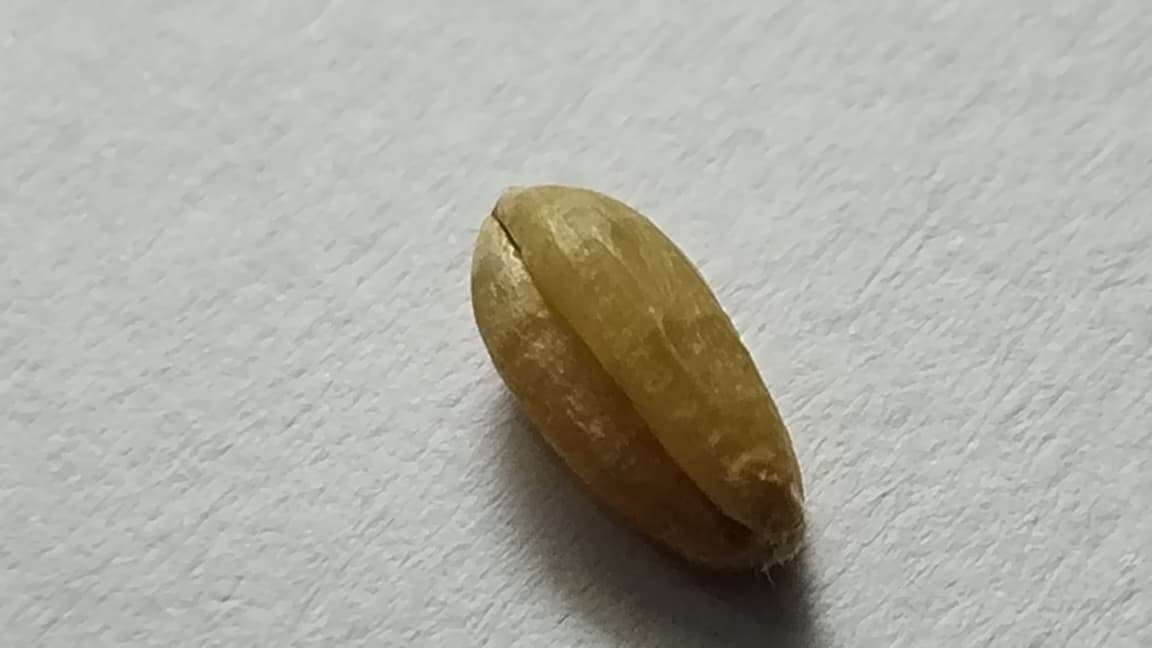healthy: (472, 186, 804, 567)
